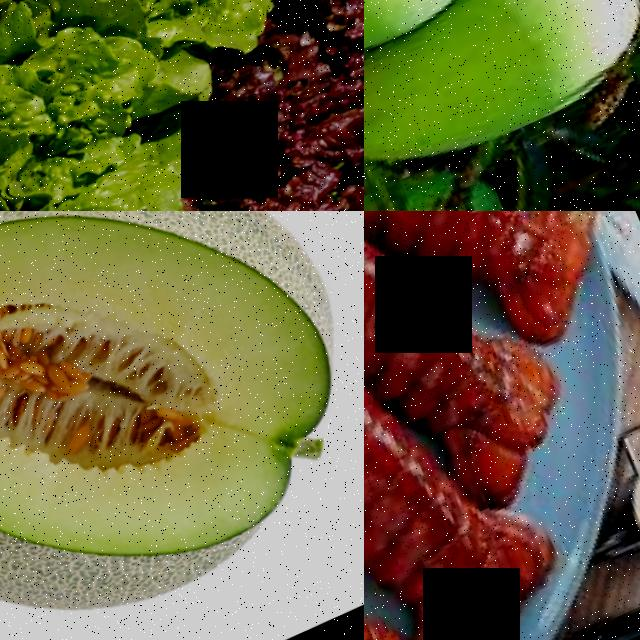lettuce: (0, 0, 225, 211), (22, 0, 295, 108)
lobster tails: (364, 247, 579, 521), (364, 400, 557, 640), (393, 211, 640, 378)
mango: (364, 0, 640, 205), (364, 0, 492, 98)
melon: (0, 211, 364, 640)
